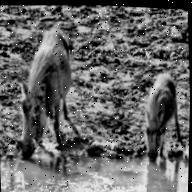boar: (10, 20, 77, 161), (141, 70, 186, 164)
